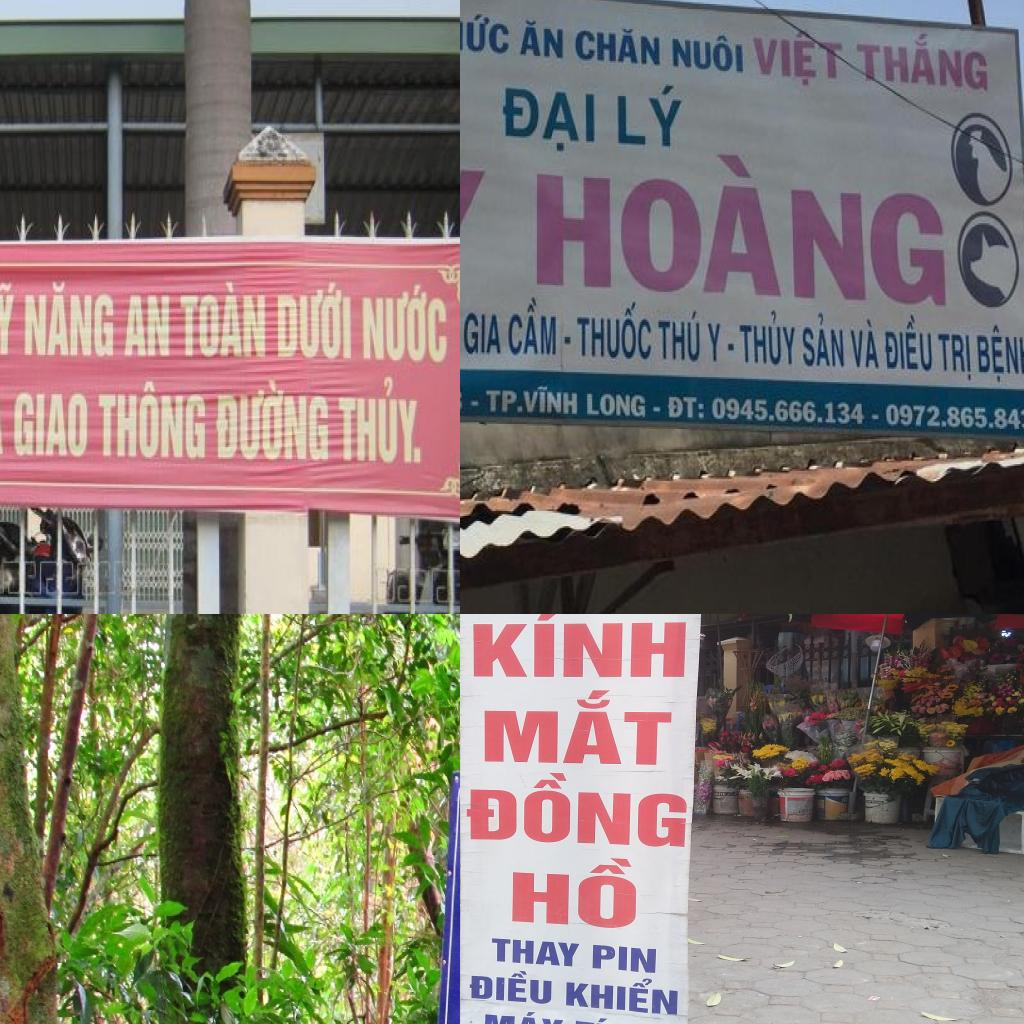text: (534, 136, 952, 317), (464, 772, 690, 850), (479, 689, 674, 768), (470, 614, 688, 679), (212, 377, 332, 466), (507, 855, 642, 931), (95, 379, 209, 464), (854, 31, 996, 96), (360, 280, 452, 370), (21, 278, 118, 362), (176, 278, 270, 363), (499, 82, 600, 160), (275, 276, 355, 365), (749, 28, 846, 94), (10, 389, 92, 462), (710, 394, 870, 431), (612, 78, 688, 153), (576, 297, 655, 364), (564, 973, 681, 1017), (571, 24, 662, 71), (736, 307, 800, 370), (483, 382, 582, 421), (122, 290, 174, 362), (668, 30, 746, 78), (504, 295, 560, 361), (880, 312, 936, 377), (974, 322, 1024, 389), (468, 967, 552, 1006), (797, 310, 847, 374), (656, 307, 704, 367), (460, 9, 514, 62), (490, 938, 582, 968), (460, 308, 506, 358), (936, 328, 975, 386), (846, 315, 883, 374), (517, 18, 566, 62), (585, 390, 650, 422), (591, 944, 657, 974), (0, 278, 19, 360), (481, 1008, 568, 1024), (665, 394, 708, 424), (704, 319, 724, 367), (725, 339, 739, 355), (469, 397, 483, 411), (460, 385, 466, 415), (562, 334, 575, 347), (652, 404, 664, 416), (871, 412, 882, 424)
